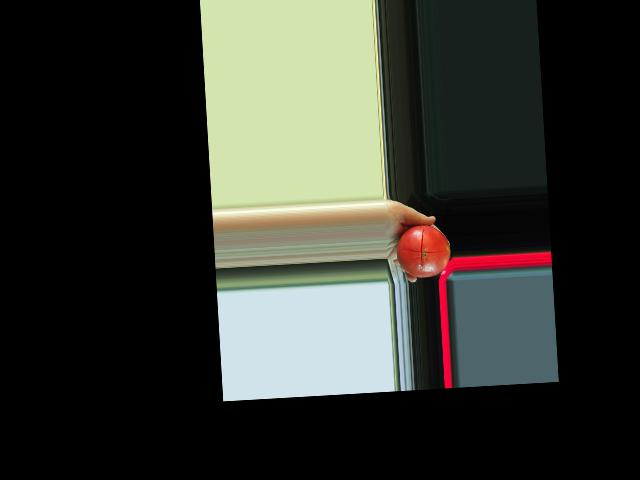tomato: (394, 223, 451, 279)
